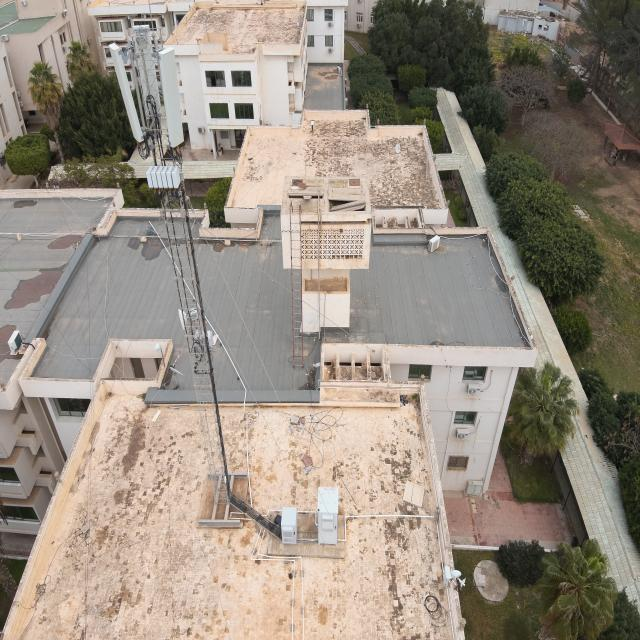antenna: (108, 43, 144, 142), (132, 20, 165, 120), (157, 44, 187, 149)
lighnig-rad: (147, 0, 158, 36)
microware-dish: (179, 306, 200, 333)
power-box: (194, 328, 214, 349)
radio-unit: (146, 162, 183, 191)
